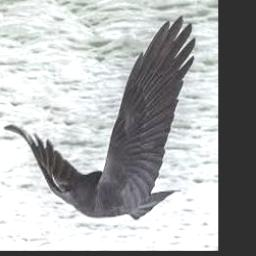Crow: (3, 17, 196, 223)
